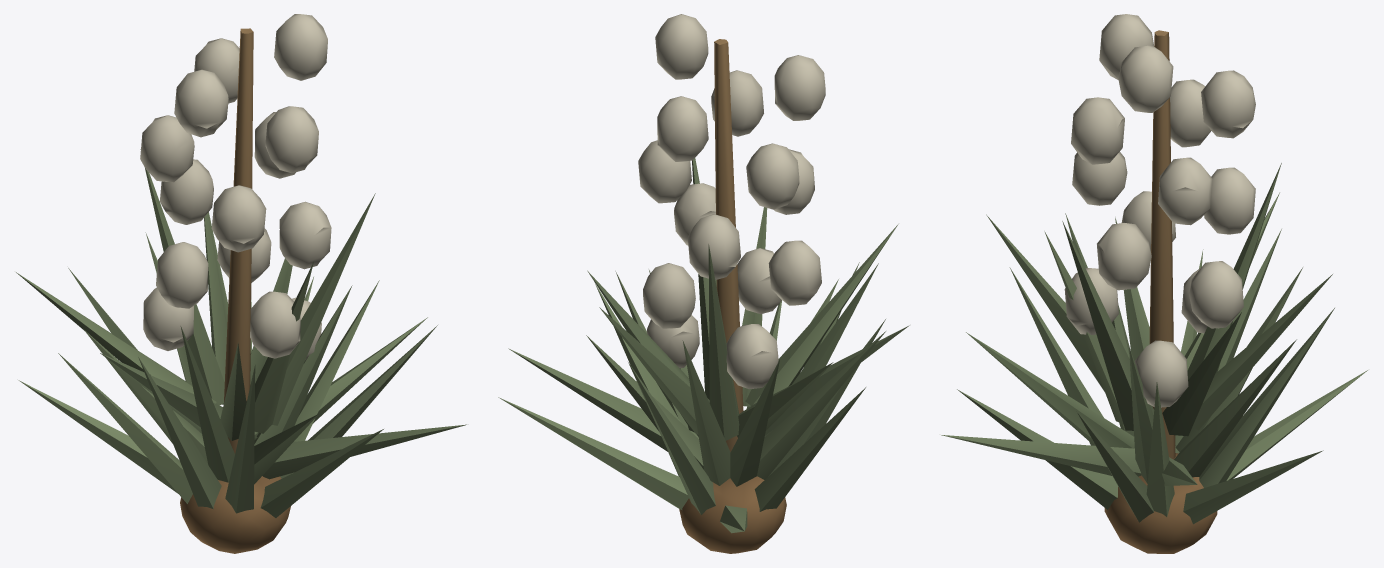
File: yucca_a_lod1.glb
3 renders of one model, left to right at view 1: azimuth 30°, elevation 25°; view 2: azimuth 150°, elevation 25°; view 3: azimuth 270°, elevation 25°, orthographic. The views are drawn at different scales.
Visible parts, largest first — view 1: Surface.001; view 2: Surface.001; view 3: Surface.001.
Boxes of the visible parts, x1,y1,x2,y2 form: Surface.001: (16, 14, 466, 553); Surface.001: (498, 14, 909, 553); Surface.001: (941, 14, 1367, 553).
Bounding box in the file's own units: 1.75 × 2.35 × 1.72.
